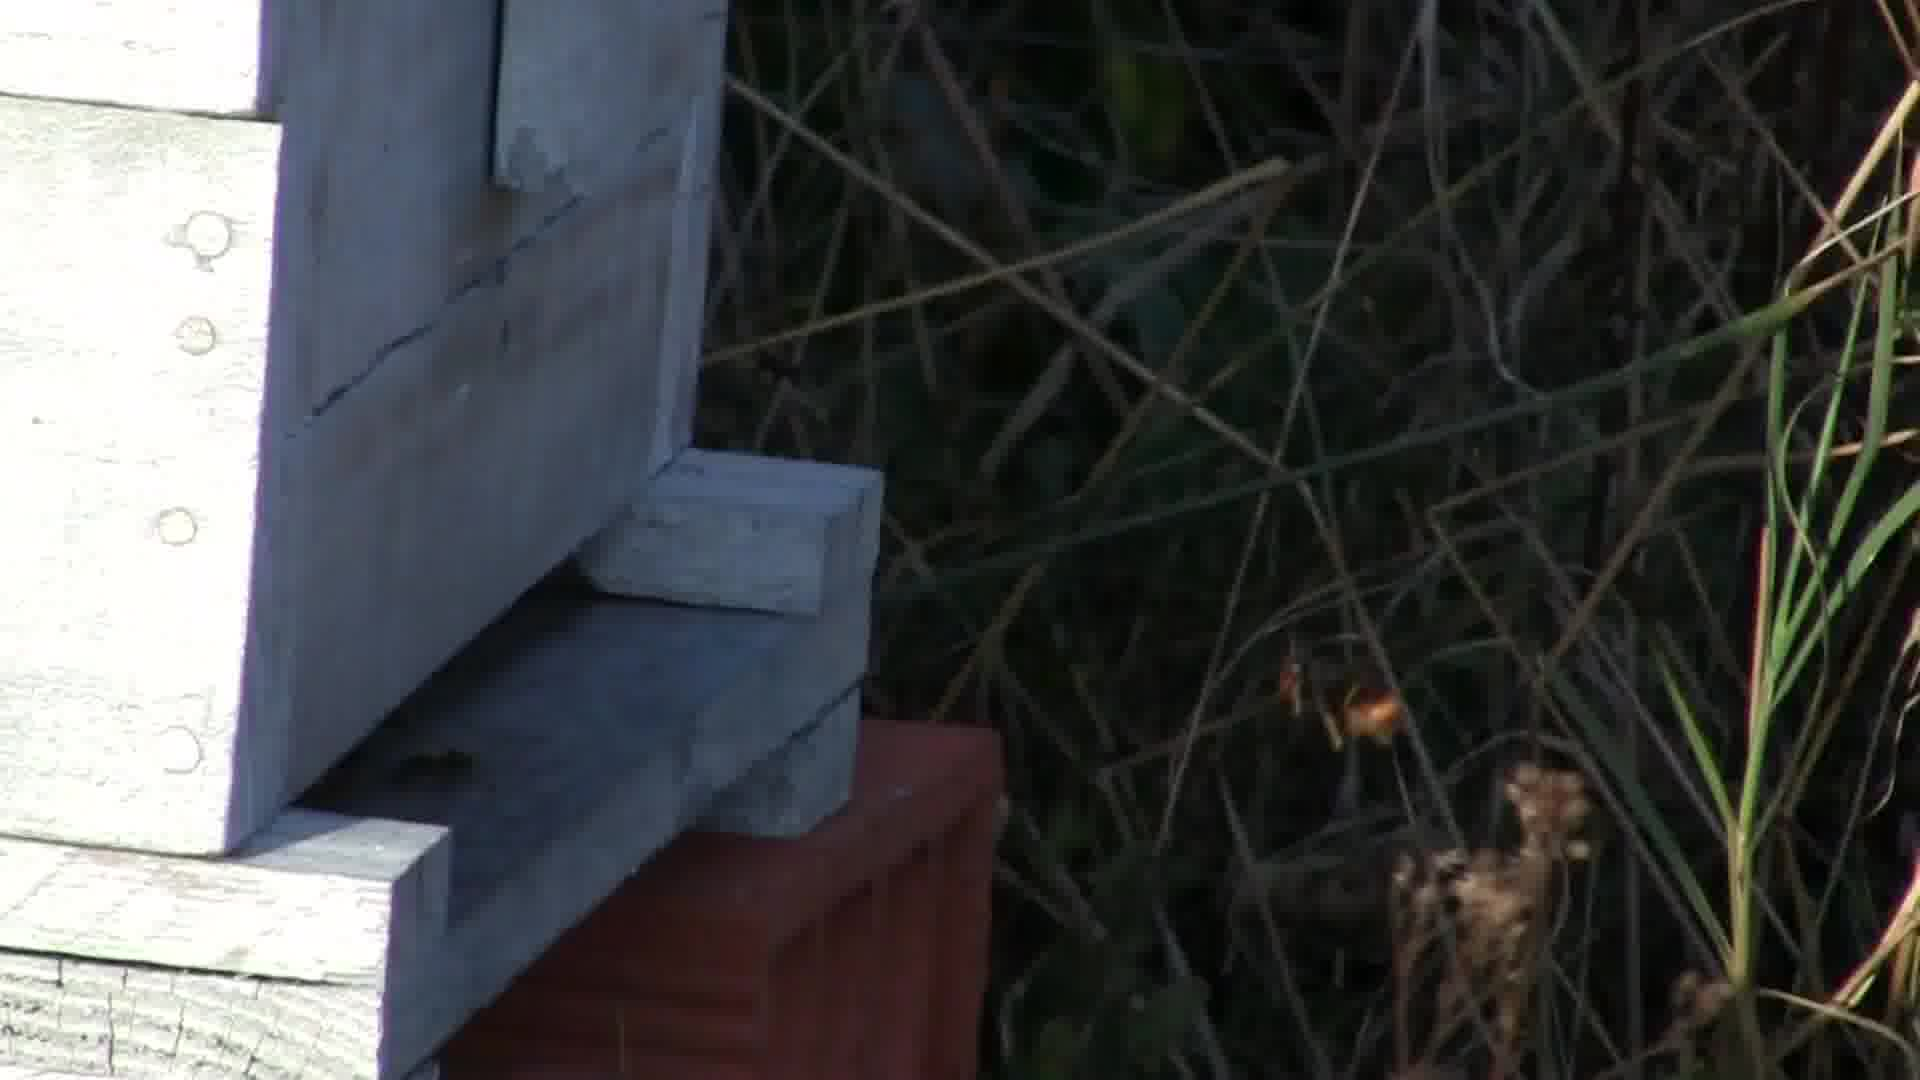hornet: (1259, 644, 1414, 767)
